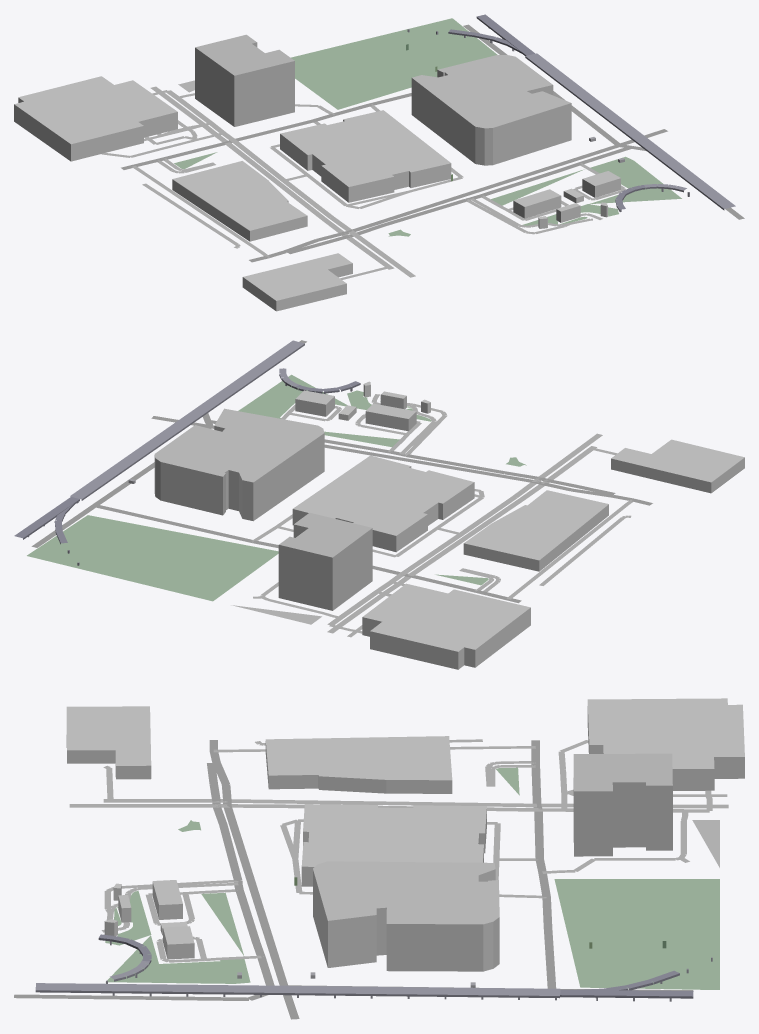
3 views of the same model, one above another, from view 1: azimuth 30°, elevation 25°; view 2: azimuth 150°, elevation 25°; view 3: azimuth 270°, elevation 25° (orthographic). The views are drawn at different scales.
Bounding box in the file's own units: 573 × 59.56 × 595.
